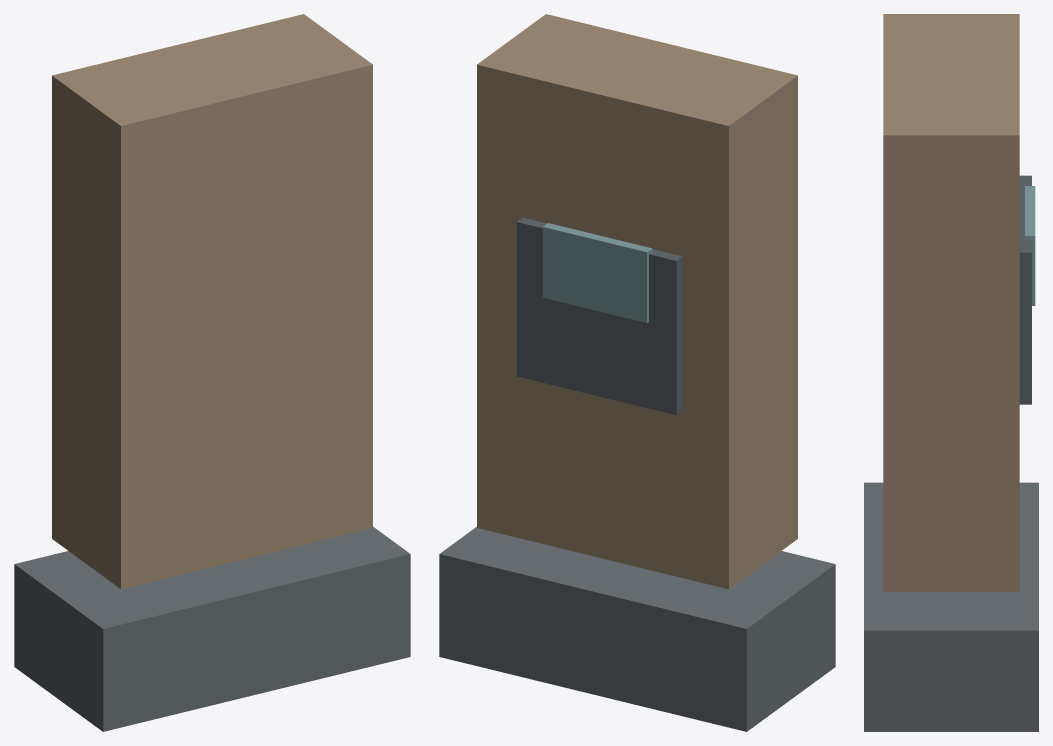
File: iz3_health_cabinet_02.glb
3 views of the same model, side by side, from view 1: azimuth 30°, elevation 25°; view 2: azimuth 150°, elevation 25°; view 3: azimuth 270°, elevation 25° (orthographic).
Parts seen in each view (by area): view 1: cabinet, base; view 2: cabinet, base, panel, display; view 3: cabinet, base, panel, display.
Boxes of the visible parts, x1,y1,x2,y2 form: cabinet: (52, 14, 372, 589); base: (14, 527, 410, 731); cabinet: (477, 14, 797, 589); base: (439, 527, 835, 731); panel: (516, 217, 682, 415); display: (542, 223, 652, 322); cabinet: (883, 14, 1019, 591); base: (864, 482, 1038, 731); panel: (1019, 175, 1031, 404); display: (1025, 186, 1035, 305).
Bounding box in the file's own units: 1 × 1.84 × 0.5.
